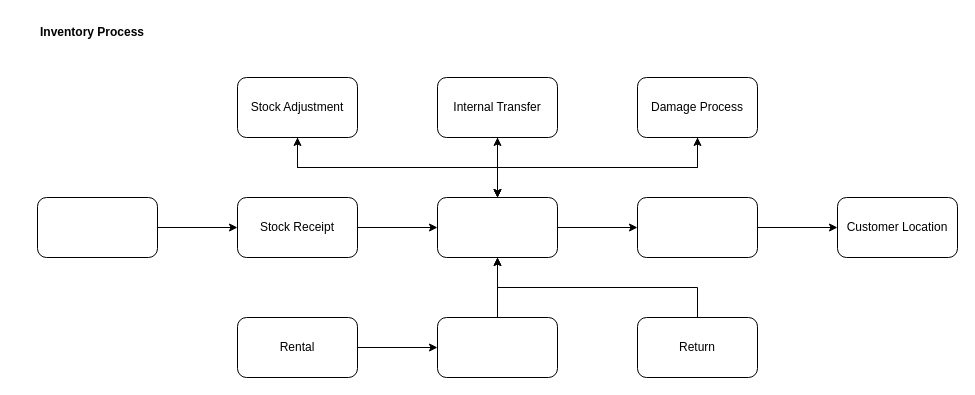
Image size: 975x395. Some labels were removed from this diagram. The box of each missing label's shape, as (x1, y1, x2, y2) in pixels:
Delivery Order: (636, 196, 758, 258)
Pickup: (436, 316, 558, 378)
Purchase Order: (36, 196, 158, 258)
Stock Location: (436, 196, 558, 258)
